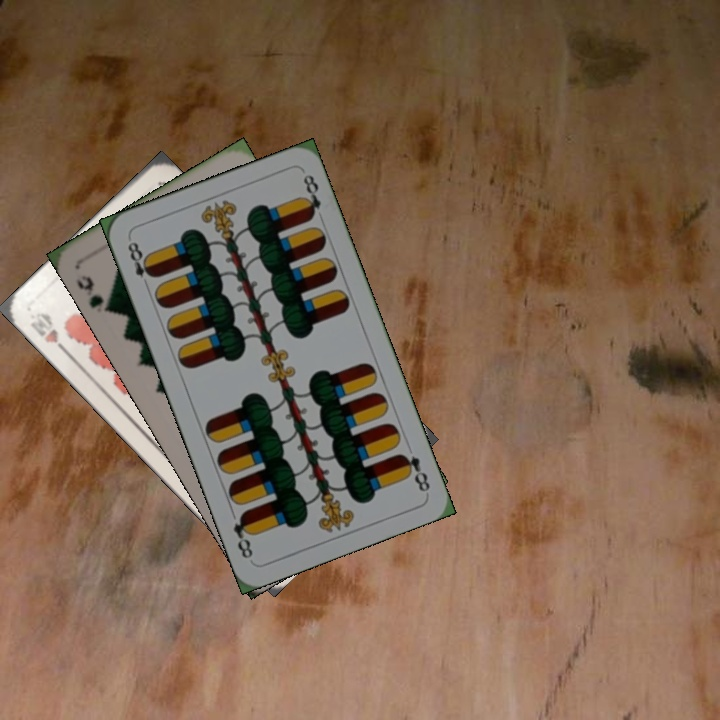E8: (123, 234, 158, 292), (395, 449, 433, 495)
G9: (72, 271, 116, 315)
H10: (25, 308, 72, 357)
